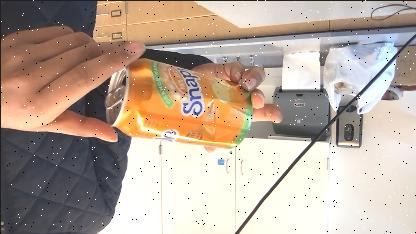Can: (103, 52, 252, 154)
